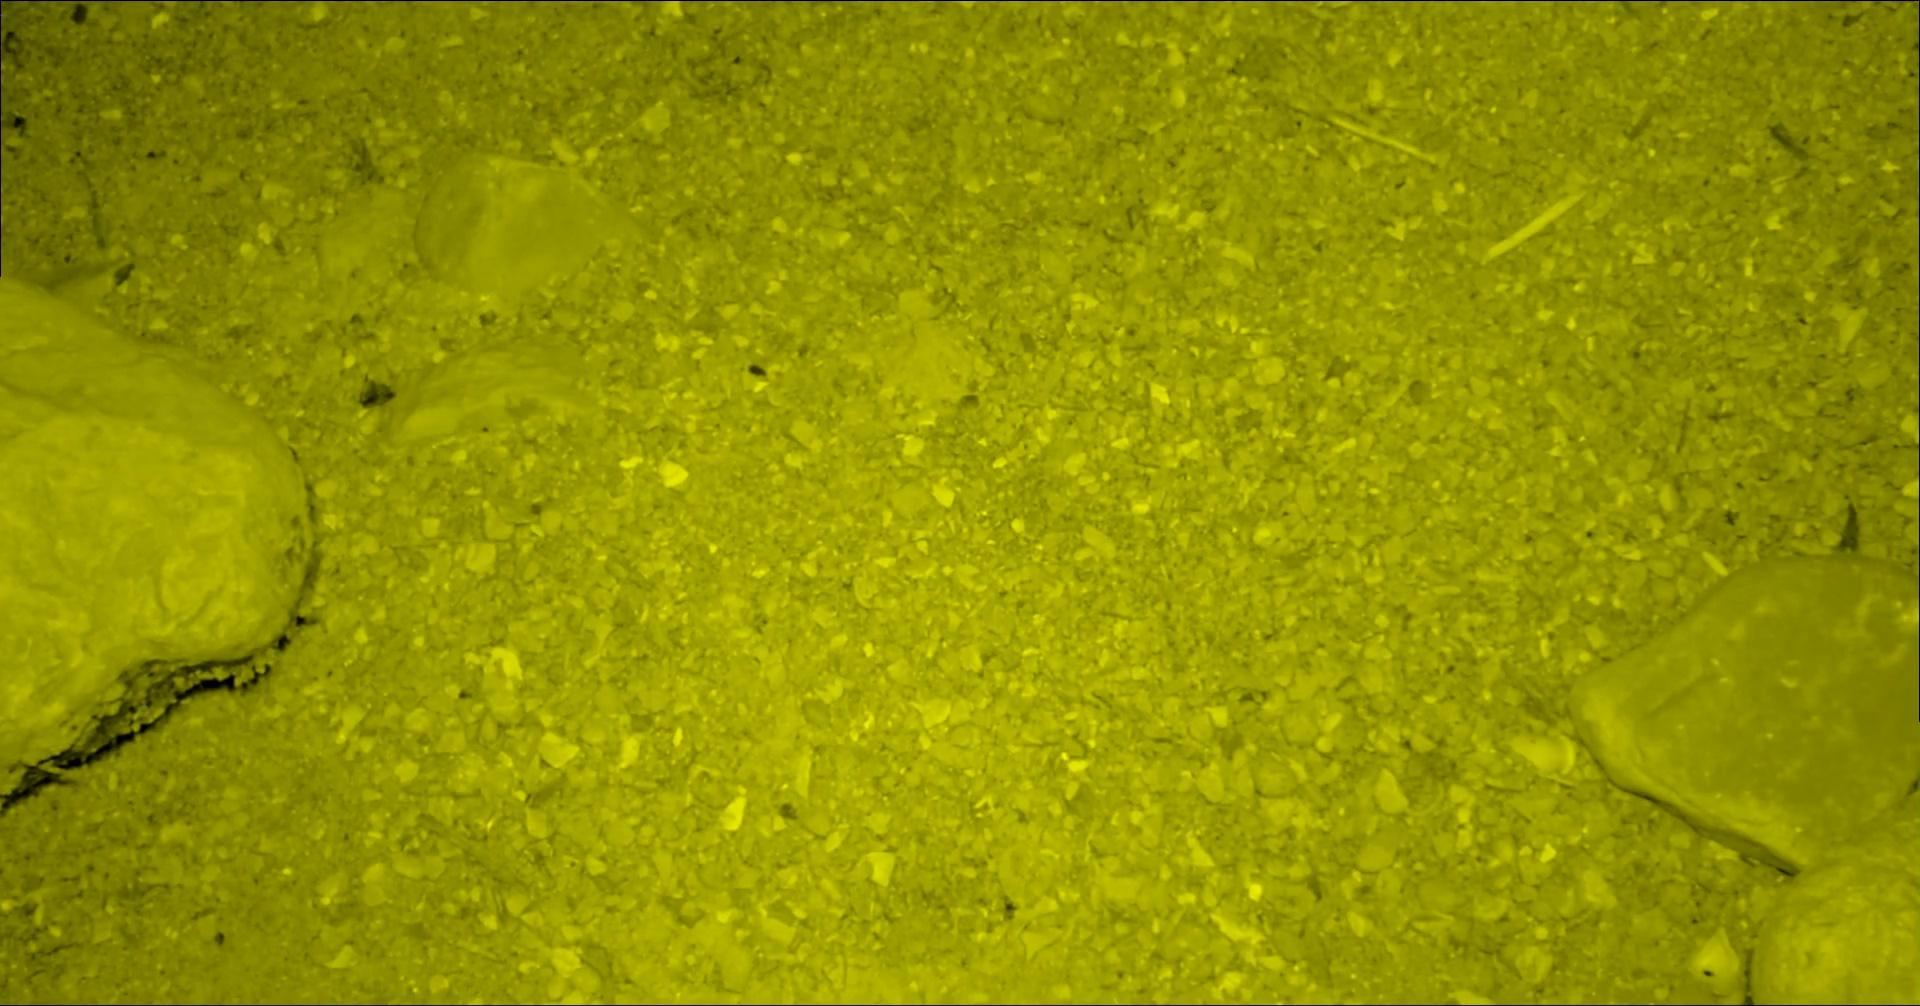ant: (1, 0, 128, 3)
